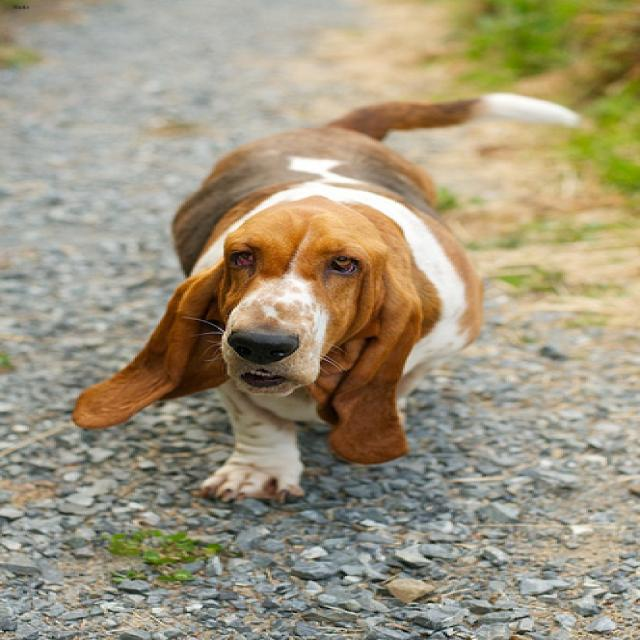dog-basset_hound: (56, 88, 596, 508)
